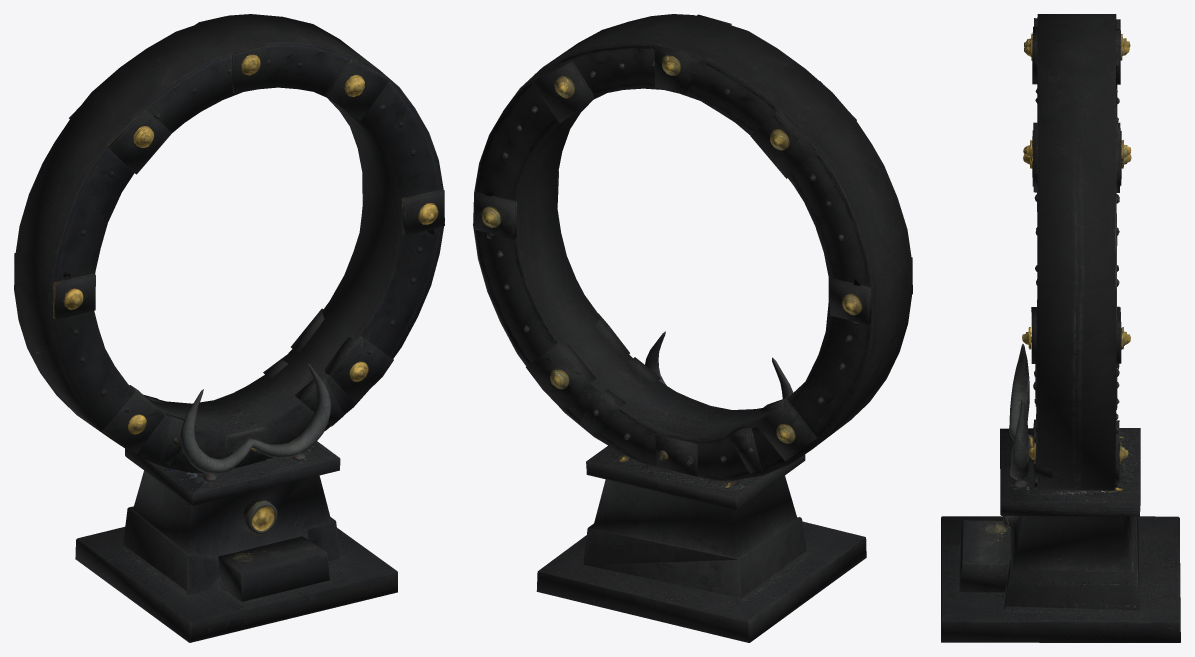
Rendered from portal-frame.glb.
The picture shows the model from 3 angles, left to right: view 1: azimuth 30°, elevation 25°; view 2: azimuth 150°, elevation 25°; view 3: azimuth 270°, elevation 25°; orthographic projection. The views are drawn at different scales.
Size of the model in its own units: 0.7678 by 1 by 0.3905.
1 material, 1 textured.
